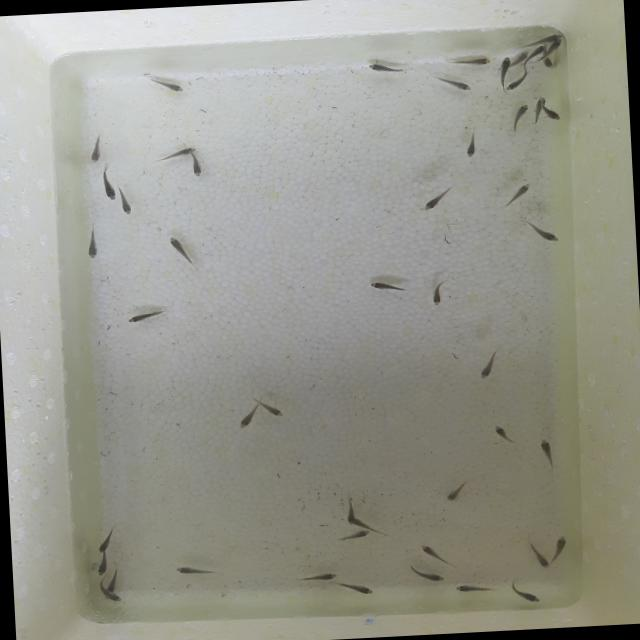fingerling: (168, 233, 200, 276), (402, 563, 449, 586), (506, 578, 543, 606), (525, 219, 562, 246), (421, 185, 456, 212), (81, 223, 105, 262), (144, 75, 190, 95), (450, 578, 497, 597), (502, 182, 536, 208), (170, 562, 217, 580), (369, 278, 411, 298), (95, 522, 120, 555), (474, 350, 500, 380), (125, 306, 167, 324), (98, 165, 118, 202), (509, 102, 532, 134), (526, 540, 551, 569), (87, 134, 109, 166), (335, 528, 374, 546), (428, 276, 450, 307), (460, 128, 481, 160), (362, 61, 410, 74), (444, 480, 472, 502), (540, 436, 558, 470), (419, 542, 448, 563), (550, 536, 570, 566), (154, 146, 196, 160), (440, 78, 474, 95), (492, 422, 516, 446), (444, 56, 492, 68), (236, 406, 260, 430), (298, 570, 338, 584), (341, 582, 378, 597), (260, 401, 284, 421), (503, 73, 527, 93), (118, 186, 134, 216), (187, 153, 204, 179), (344, 496, 358, 524), (496, 54, 518, 68), (105, 590, 125, 604), (94, 558, 110, 575), (544, 107, 561, 122), (531, 96, 548, 109), (541, 56, 555, 70), (531, 45, 546, 56), (550, 39, 563, 51), (516, 50, 530, 61), (548, 34, 562, 40)
